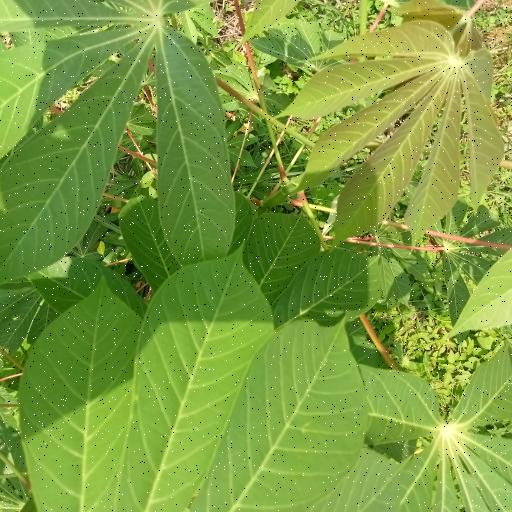Cassava_Healthy: (23, 279, 512, 512), (0, 0, 215, 275), (281, 22, 512, 244)
